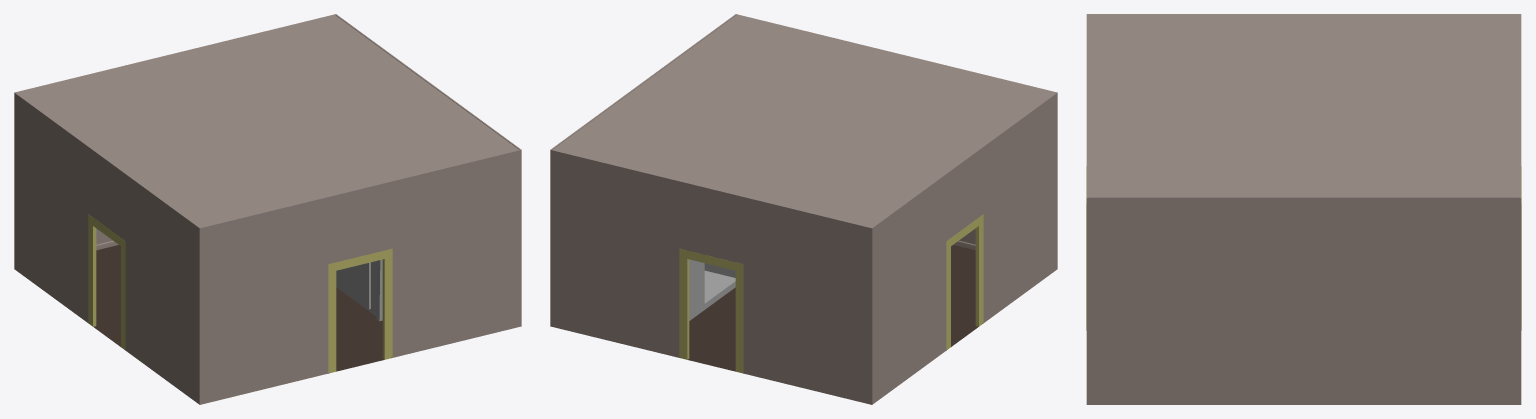
File: Room21_FurnaceRoom.fbx
The picture shows the model from 3 angles, left to right: view 1: azimuth 30°, elevation 25°; view 2: azimuth 150°, elevation 25°; view 3: azimuth 270°, elevation 25°; orthographic projection. The views are drawn at different scales.
Visible parts, largest first — view 1: Roof, WallSlicedPosZ, WallSlicedPosX, Floor, DoorFramePosZ, DoorFramePosX, pCube145, WallNegX, WallSlicedNegZ, pCube142; view 2: Roof, WallSlicedNegZ, WallSlicedPosX, Floor, DoorFrameNegZ, pCube142, DoorFramePosX, WallSlicedPosZ, WallNegX; view 3: WallNegX, Roof, WallSlicedPosZ, WallSlicedNegZ, WallSlicedPosX.
Boxes of the visible parts, bbox=[...] form: Roof: bbox=[16, 15, 518, 227]; WallSlicedPosZ: bbox=[198, 149, 521, 404]; WallSlicedPosX: bbox=[14, 92, 201, 404]; Floor: bbox=[88, 245, 392, 373]; DoorFramePosZ: bbox=[328, 248, 392, 372]; DoorFramePosX: bbox=[88, 214, 125, 349]; pCube145: bbox=[336, 262, 370, 309]; WallNegX: bbox=[335, 14, 521, 326]; WallSlicedNegZ: bbox=[14, 14, 335, 267]; pCube142: bbox=[336, 259, 382, 321]; Roof: bbox=[553, 15, 1055, 227]; WallSlicedNegZ: bbox=[550, 149, 873, 404]; WallSlicedPosX: bbox=[870, 92, 1057, 404]; Floor: bbox=[679, 245, 983, 373]; DoorFrameNegZ: bbox=[679, 248, 743, 372]; pCube142: bbox=[689, 259, 735, 320]; DoorFramePosX: bbox=[946, 214, 983, 349]; WallSlicedPosZ: bbox=[736, 14, 1057, 269]; WallNegX: bbox=[550, 14, 736, 326]; WallNegX: bbox=[1086, 197, 1521, 404]; Roof: bbox=[1088, 14, 1519, 197]; WallSlicedPosZ: bbox=[1086, 14, 1088, 197]; WallSlicedNegZ: bbox=[1519, 14, 1521, 197]; WallSlicedPosX: bbox=[1087, 14, 1521, 14].
Bounding box in the file's own units: 801 × 424 × 800.
